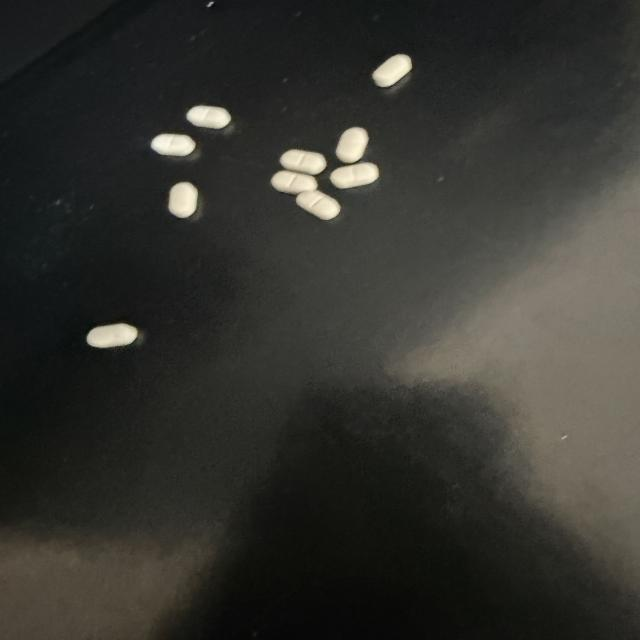pill: (373, 54, 412, 87), (296, 191, 340, 220), (330, 163, 379, 188), (86, 324, 137, 348), (336, 127, 368, 163), (280, 150, 326, 174), (271, 171, 317, 194), (169, 182, 198, 218), (187, 106, 231, 129), (151, 134, 195, 156)
